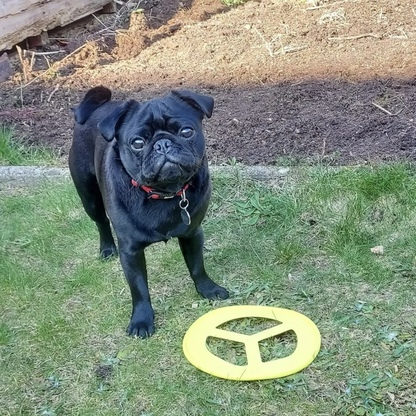Pug: (64, 82, 239, 342)
